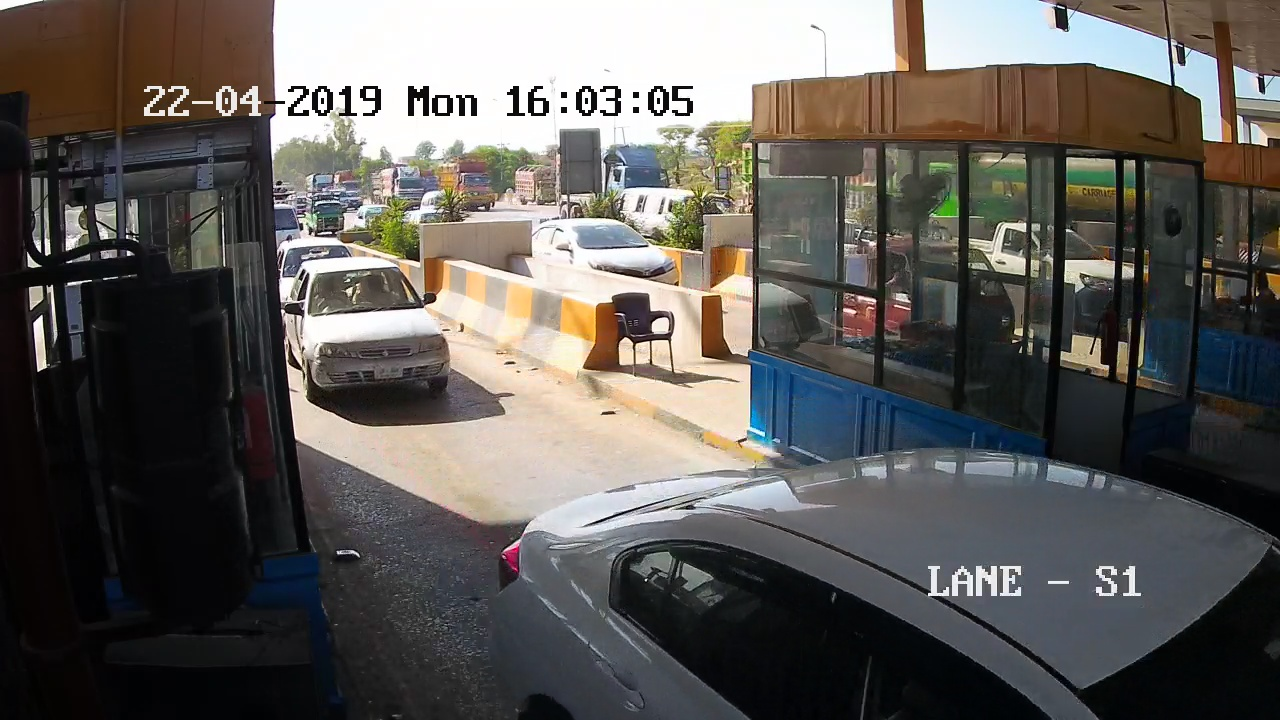Number Plate (Car): (374, 366, 400, 378)
